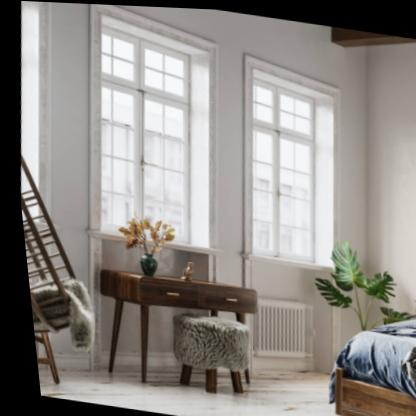Window: (86, 3, 216, 249), (243, 54, 338, 267)
